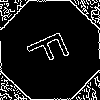F: (25, 25, 79, 71)
